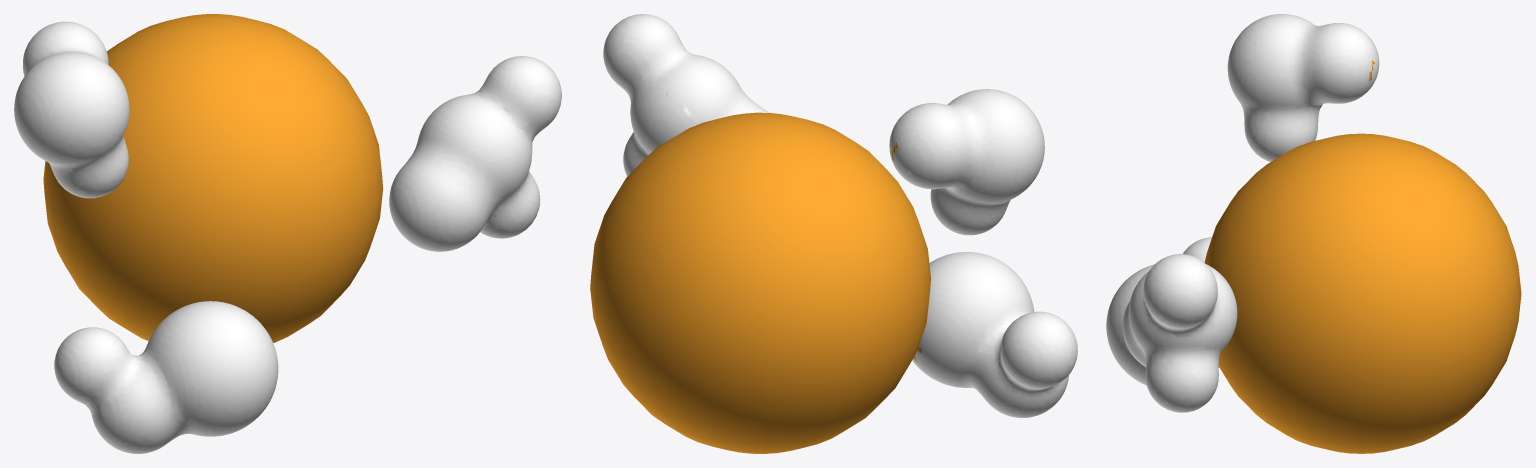
File: cloudBlob.glb
3 renders of one model, left to right at view 1: azimuth 30°, elevation 25°; view 2: azimuth 150°, elevation 25°; view 3: azimuth 270°, elevation 25°, orthographic. The views are drawn at different scales.
Parts seen in each view (by area): view 1: Sphere; view 2: Sphere; view 3: Sphere.
Part boxes in pixels (bbox=[...]): Sphere: bbox=[14, 14, 561, 453]; Sphere: bbox=[590, 14, 1077, 453]; Sphere: bbox=[1106, 14, 1521, 453].
Bounding box in the file's own units: 29.87 × 21.53 × 23.71.
